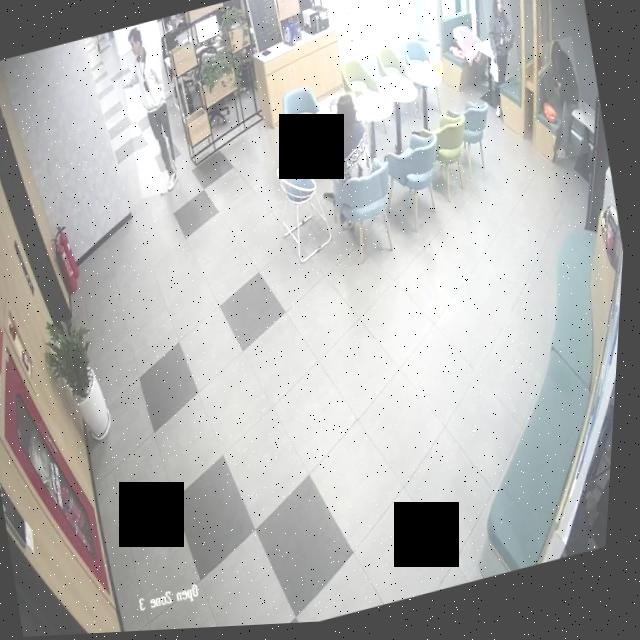person: (108, 21, 189, 202), (313, 88, 394, 231), (534, 41, 596, 167), (477, 0, 527, 94)
